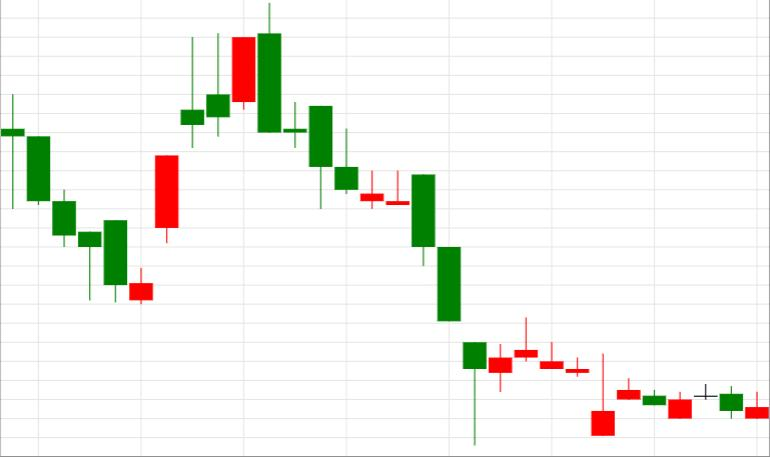bearish_engulfing_fall: (129, 3, 281, 305)
hammer_rise: (283, 101, 486, 445)
